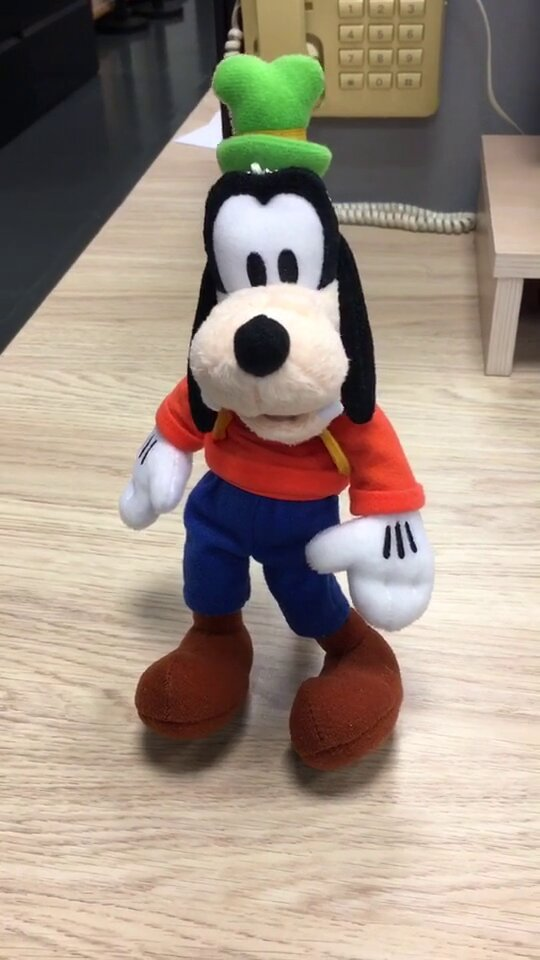goofy: (115, 44, 441, 770)
